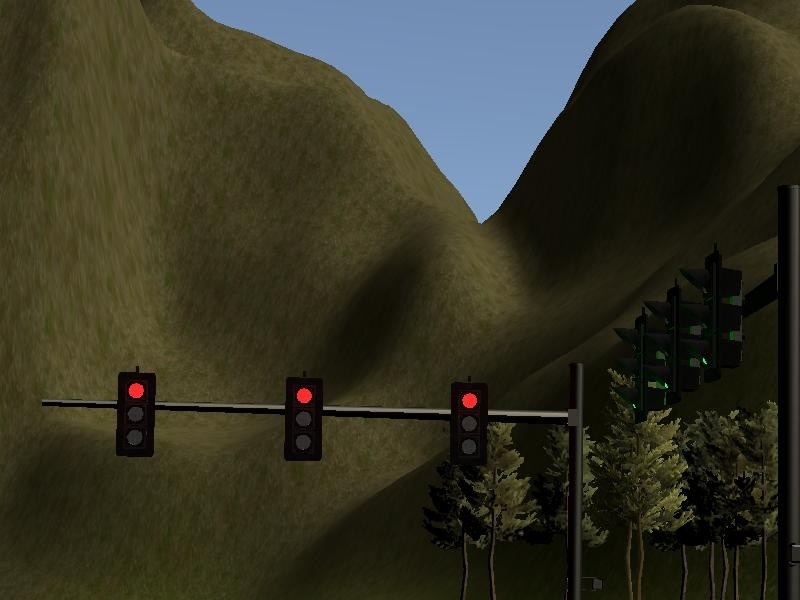RED: (117, 373, 156, 457), (284, 375, 323, 459), (450, 380, 489, 464)
